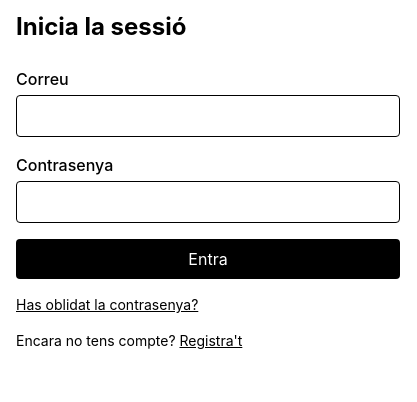
LoginPage › shows a clear error when the credentials are wrong
The width and height of the screenshot is (417, 402).
Type "oriol@test.com" into the field labelled "Correu" at coordinates (208, 116), box [16,95,400,137]
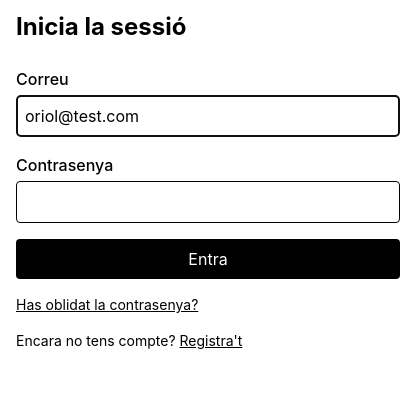
Type "wrong-password" into the password field labelled "Contrasenya" at coordinates (208, 202), box [16,181,400,223]
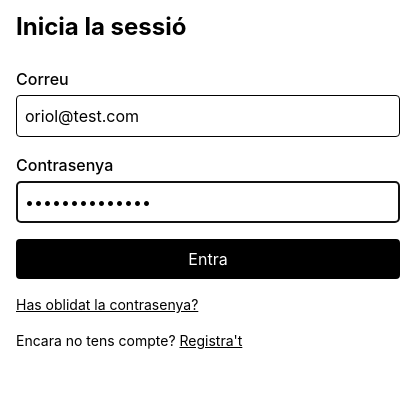
Click the button "Entra" at coordinates (208, 259), box [16,239,400,279]
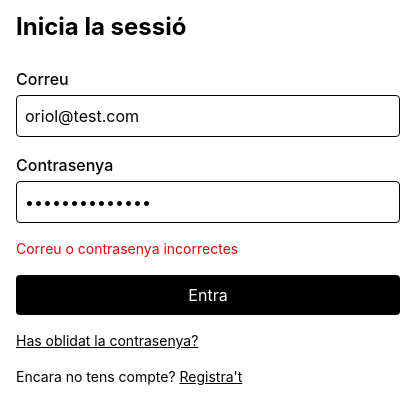
Check: the message reads "Correu o contrasenya incorrectes", box [16,240,238,257]
